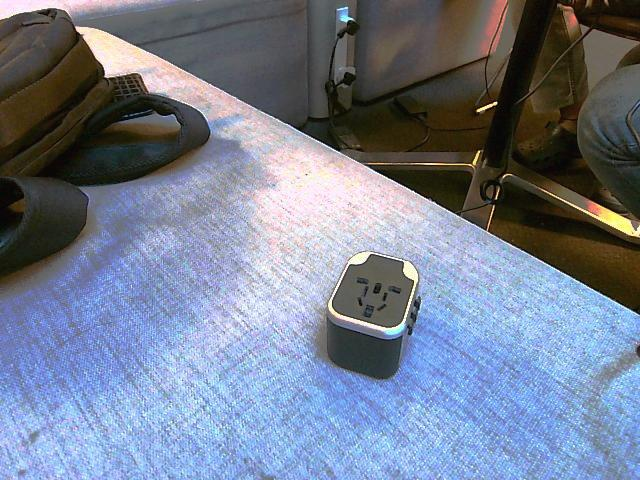adapter: (324, 249, 421, 379)
